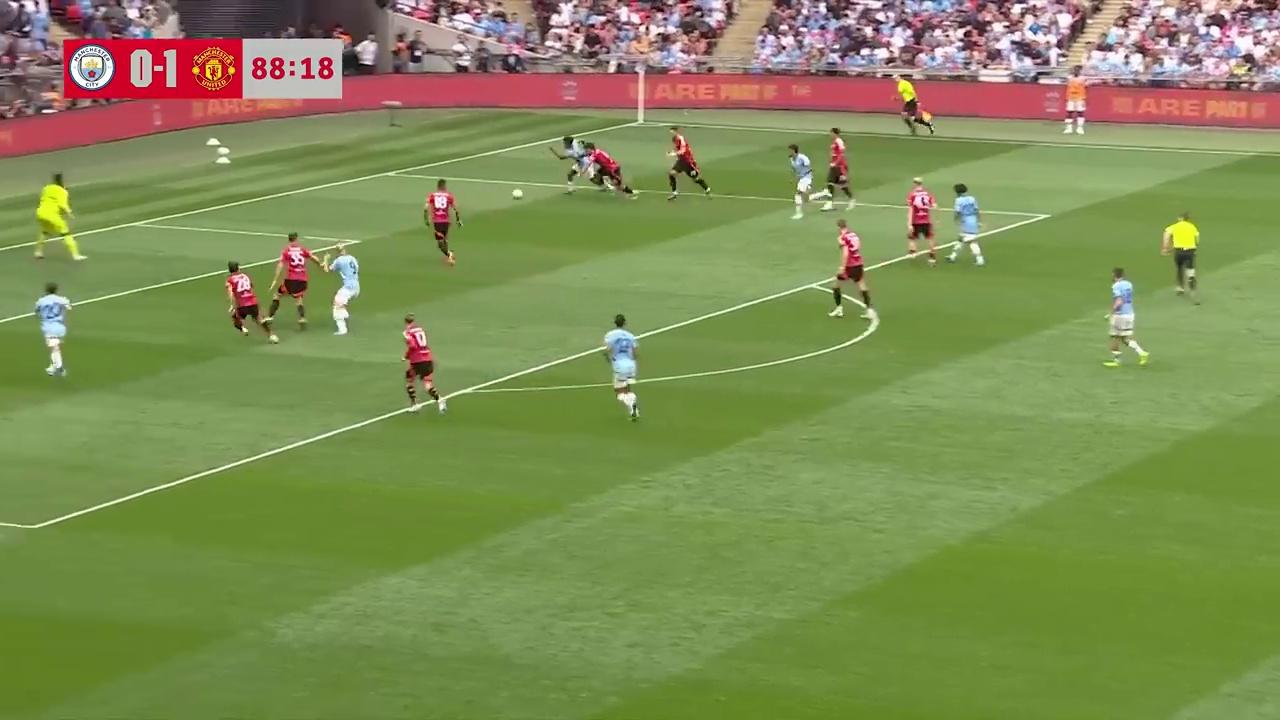ball: (510, 184, 524, 200)
player: (827, 218, 876, 319), (33, 172, 86, 261), (400, 313, 446, 415), (1104, 267, 1148, 367), (268, 234, 313, 331), (603, 313, 641, 422), (224, 261, 272, 339), (664, 126, 712, 201), (323, 243, 360, 335), (946, 182, 986, 267), (424, 179, 462, 267), (35, 282, 70, 377), (585, 141, 638, 201), (905, 177, 940, 264), (823, 128, 855, 209), (788, 143, 820, 219), (899, 77, 934, 136), (555, 137, 585, 195)
referee: (665, 126, 712, 201), (1161, 211, 1200, 298), (899, 77, 935, 136)
